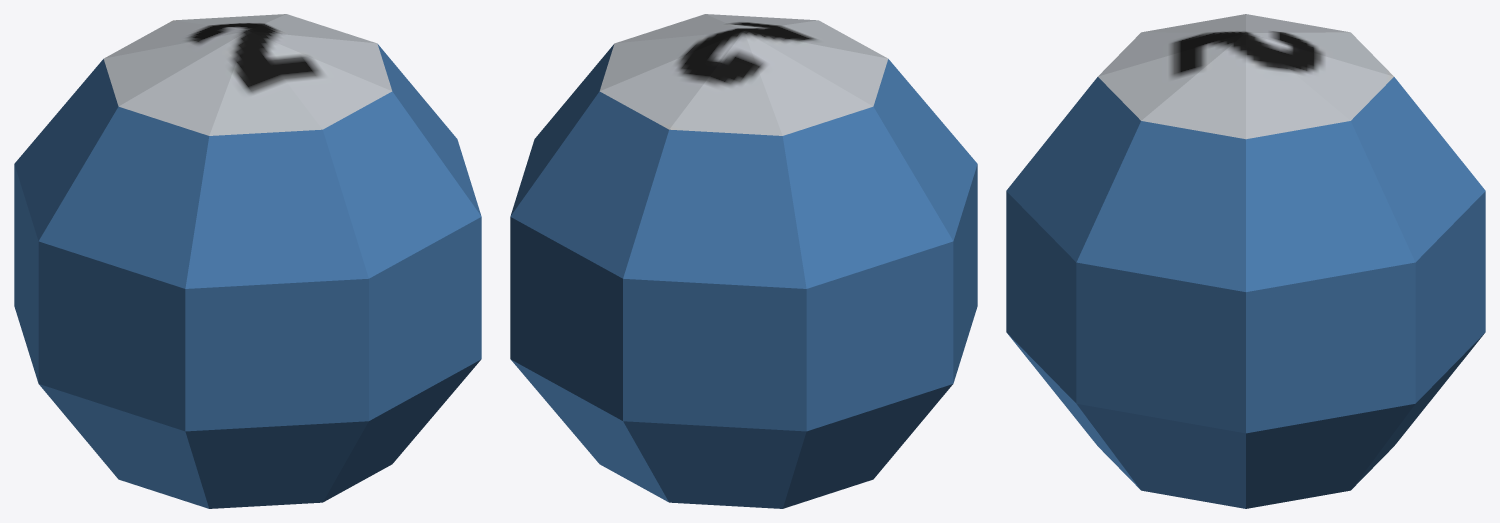
The model's file is SM_Prop_PoolBall_02.obj.
The picture shows the model from 3 angles, left to right: view 1: azimuth 30°, elevation 25°; view 2: azimuth 150°, elevation 25°; view 3: azimuth 270°, elevation 25°; orthographic projection.
Parts seen in each view (by area): view 1: SM_Prop_PoolBall_02_0; view 2: SM_Prop_PoolBall_02_0; view 3: SM_Prop_PoolBall_02_0.
Part boxes in pixels (x1,y1,x2,y2): SM_Prop_PoolBall_02_0: [14, 14, 481, 508]; SM_Prop_PoolBall_02_0: [510, 14, 977, 508]; SM_Prop_PoolBall_02_0: [1006, 14, 1485, 508].
Size of the model in its own units: 0.0843 by 0.0886 by 0.0843.
Materials: 1 (1 with a texture image).
